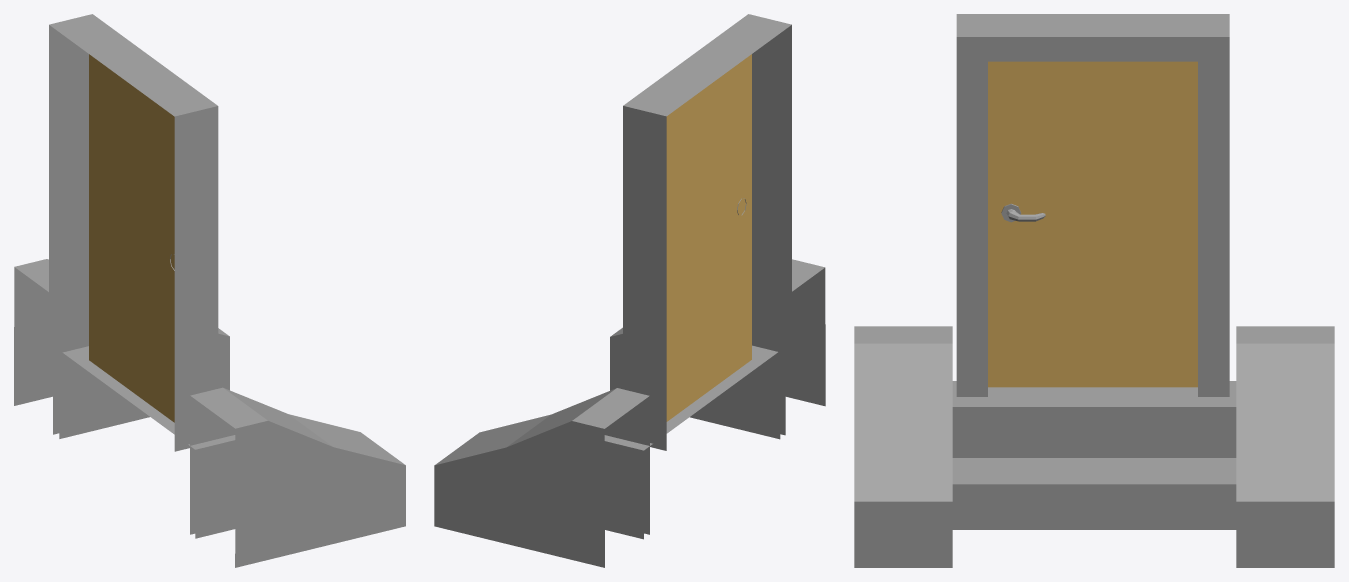
File: Door.1.fbx
3 renders of one model, left to right at view 1: azimuth 30°, elevation 25°; view 2: azimuth 150°, elevation 25°; view 3: azimuth 270°, elevation 25°, orthographic. The views are drawn at different scales.
Visible parts, largest first — view 1: Door.1; view 2: Door.1; view 3: Door.1.
Part boxes in pixels (x1=…): Door.1: x1=14, y1=14, x2=405, y2=567; Door.1: x1=434, y1=14, x2=825, y2=567; Door.1: x1=854, y1=14, x2=1334, y2=567.
Size of the model in its own units: 0.6929 by 1.51 by 1.44.
